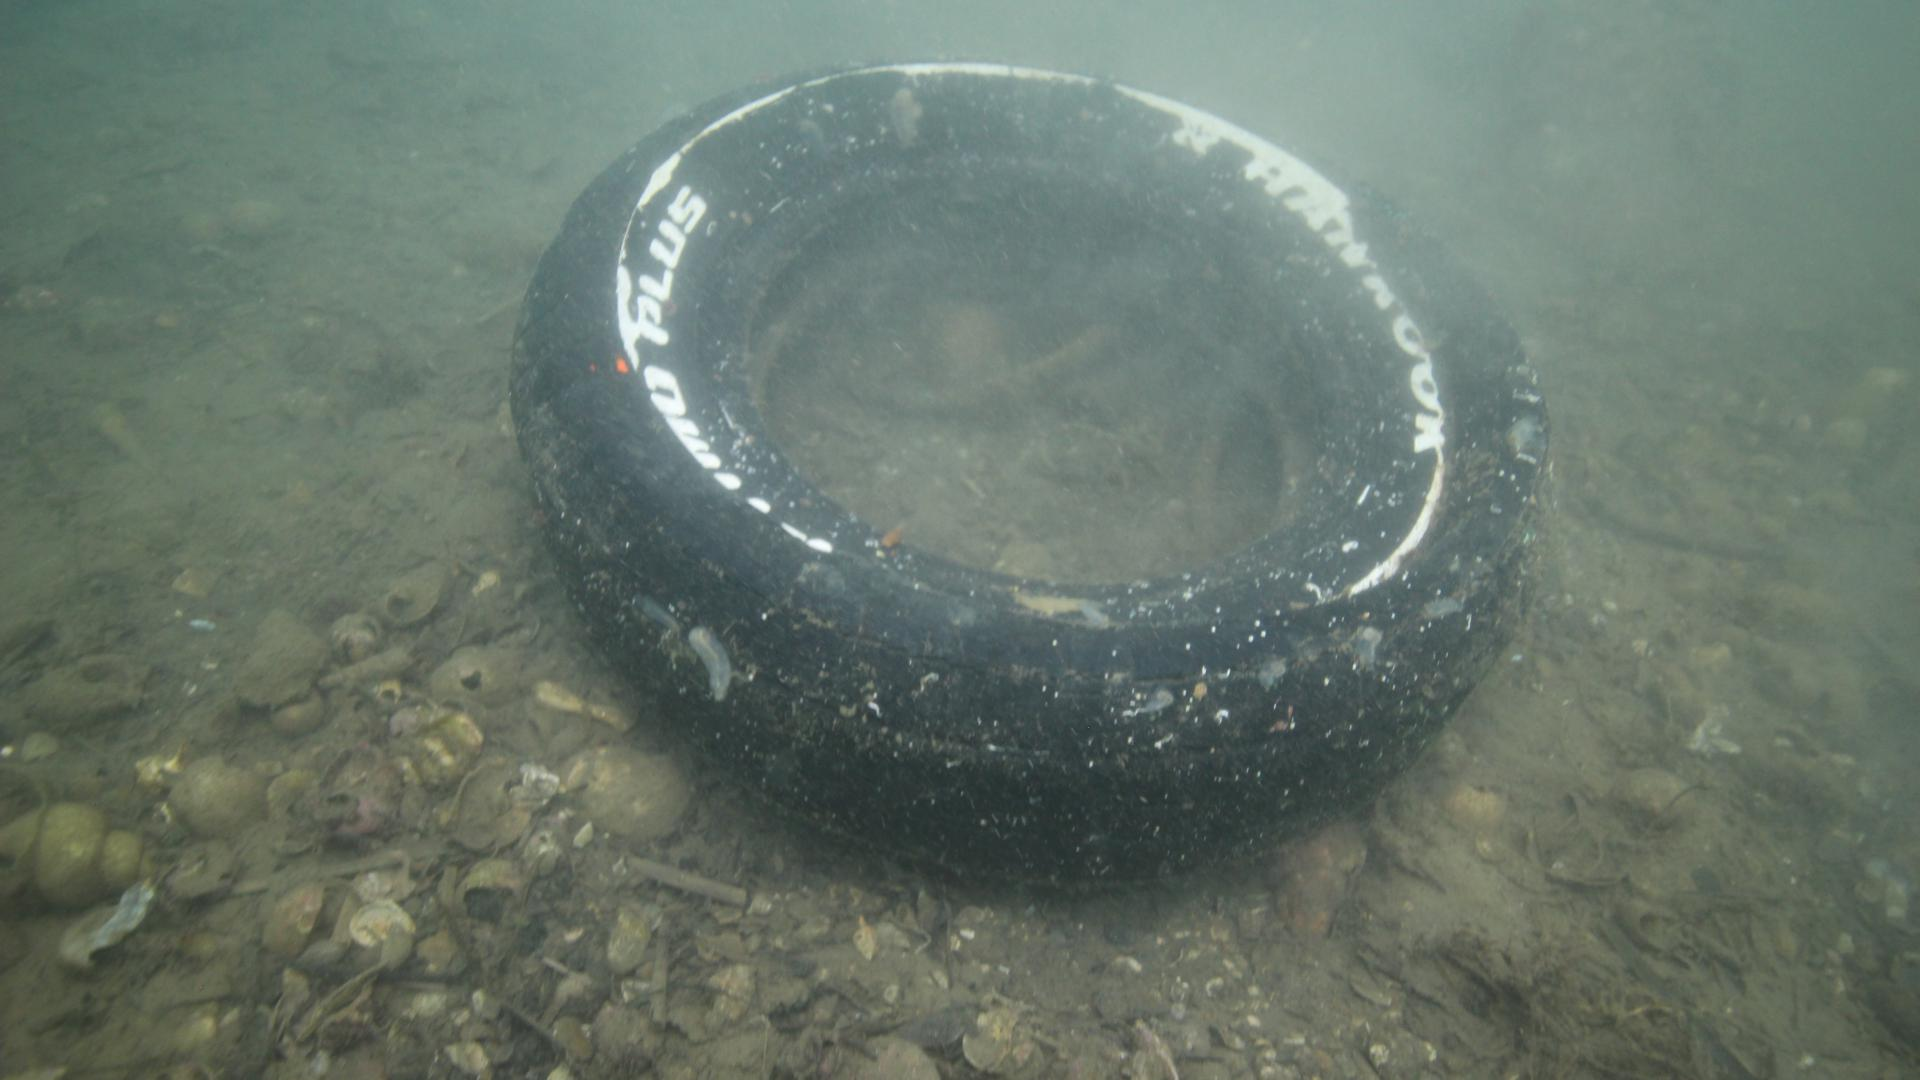tire: (505, 55, 1557, 895)
